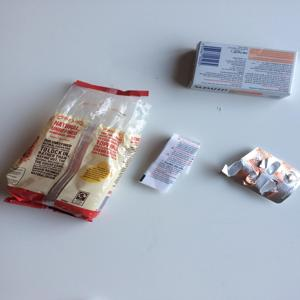cardboard: (180, 29, 300, 105)
plastic: (1, 74, 160, 227), (213, 137, 300, 212), (138, 127, 204, 207)
